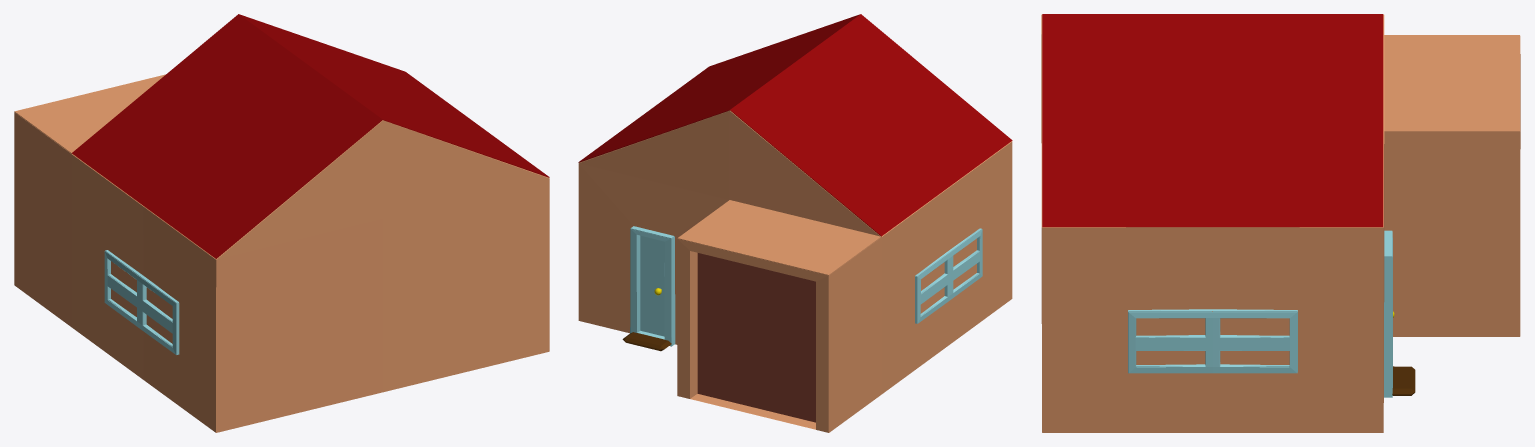
The model's file is casa.fbx.
3 renders of one model, left to right at view 1: azimuth 30°, elevation 25°; view 2: azimuth 150°, elevation 25°; view 3: azimuth 270°, elevation 25°, orthographic. The views are drawn at different scales.
Visible parts, largest first — view 1: casa, tejado, madera; view 2: casa, tejado, puerta garage, madera; view 3: casa, tejado, madera.
Boxes of the visible parts, <box> form: casa: <box>14,74,549,432</box>; tejado: <box>72,14,549,258</box>; madera: <box>104,250,179,354</box>; casa: <box>578,110,1012,432</box>; tejado: <box>578,14,1012,236</box>; puerta garage: <box>697,253,815,422</box>; madera: <box>622,226,982,351</box>; casa: <box>1041,14,1520,432</box>; tejado: <box>1042,14,1383,227</box>; madera: <box>1128,230,1415,397</box>.
Size of the model in its own units: 2052 by 1566 by 2106.
